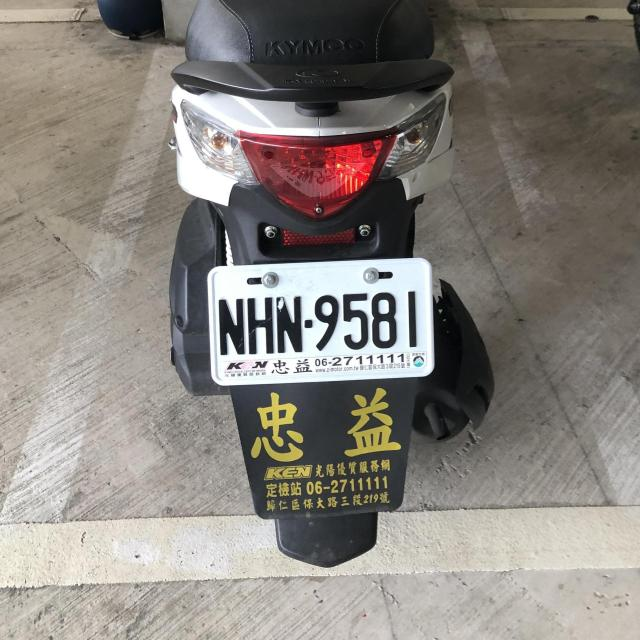W: (204, 254, 436, 391)
